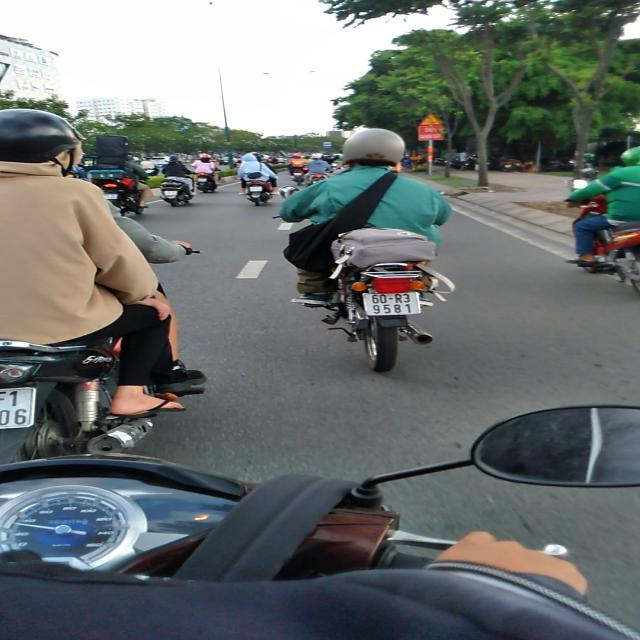Hieu lenh: (323, 142, 332, 148)
Nguy hiem: (419, 113, 443, 125)
